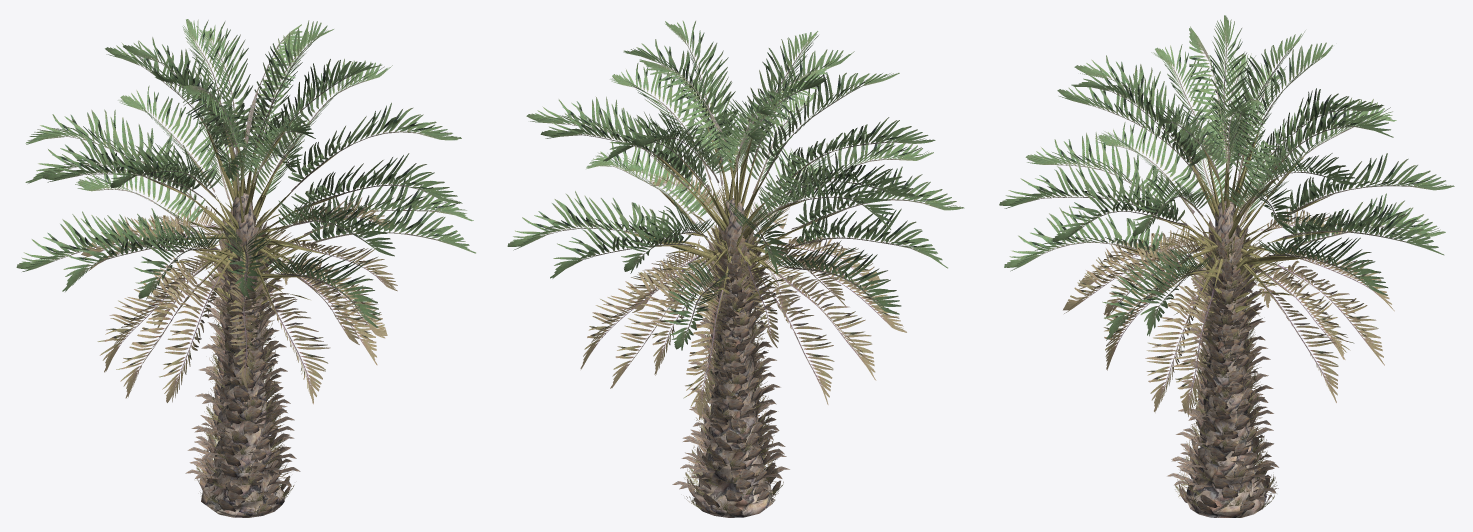
The model's file is palm-date.glb.
The picture shows the model from 3 angles, left to right: view 1: azimuth 30°, elevation 25°; view 2: azimuth 150°, elevation 25°; view 3: azimuth 270°, elevation 25°; orthographic projection. The views are drawn at different scales.
Visible parts, largest first — view 1: _1_HP_Palm3_Leaf_0, _1_HP_Palm3_Leaf_2_0, _1_HP_Palm3_Trunk_0; view 2: _1_HP_Palm3_Leaf_0, _1_HP_Palm3_Leaf_2_0, _1_HP_Palm3_Trunk_0; view 3: _1_HP_Palm3_Leaf_0, _1_HP_Palm3_Leaf_2_0, _1_HP_Palm3_Trunk_0.
Boxes of the visible parts, x1,y1,x2,y2 form: _1_HP_Palm3_Leaf_0: (16,19,475,404); _1_HP_Palm3_Leaf_2_0: (142,107,353,515); _1_HP_Palm3_Trunk_0: (201,193,284,517); _1_HP_Palm3_Leaf_0: (507,20,964,419); _1_HP_Palm3_Leaf_2_0: (625,119,846,515); _1_HP_Palm3_Trunk_0: (695,198,775,517); _1_HP_Palm3_Leaf_0: (999,15,1454,416); _1_HP_Palm3_Leaf_2_0: (1114,130,1333,514); _1_HP_Palm3_Trunk_0: (1185,201,1266,517).
Bounding box in the file's own units: 9.8 × 10.87 × 10.21.
3 materials, 3 textured.
